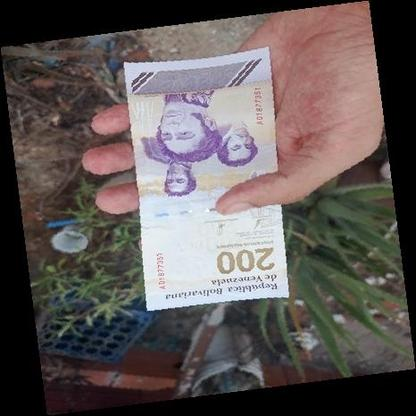two_hundred-front-vef: (122, 46, 290, 312)
